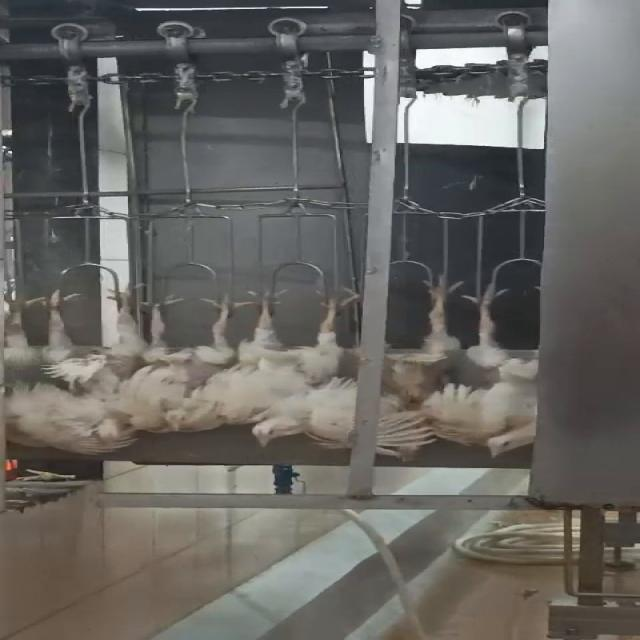chicken: (199, 286, 363, 453), (11, 292, 152, 460), (452, 279, 546, 462), (132, 289, 235, 441), (382, 275, 480, 420)
